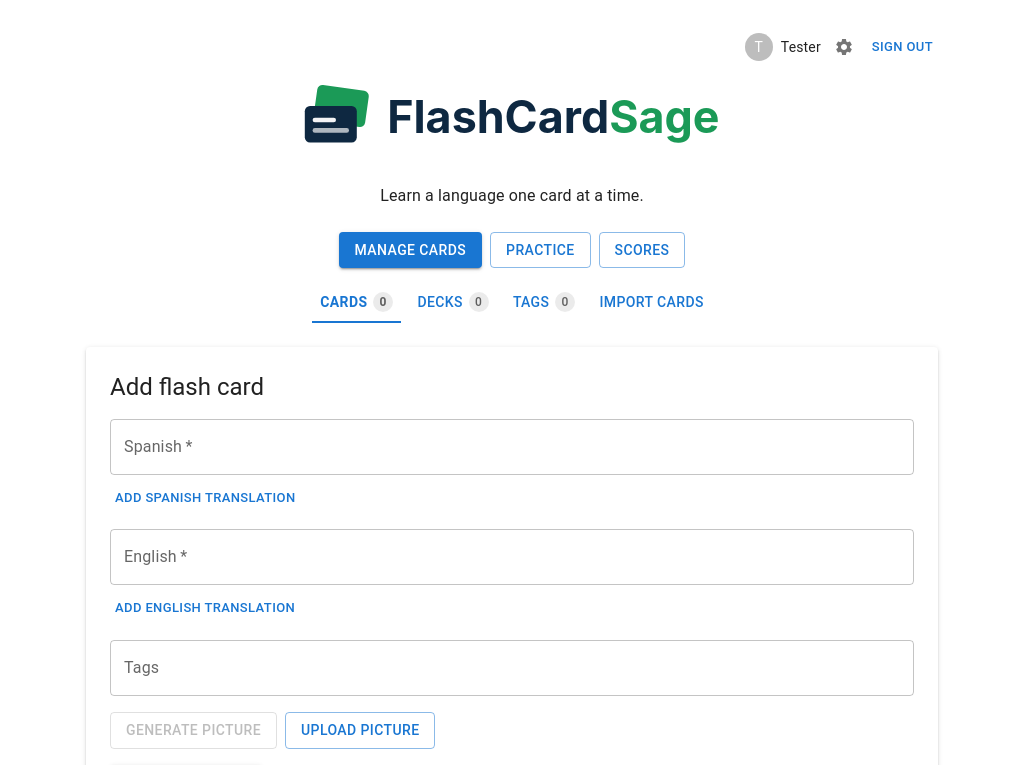
pictures › says why when the API answers 503 instead of a picture
The image size is (1024, 765).
Type "el gato" into the field labelled "Spanish" at [512, 447], box [110,419,914,475]
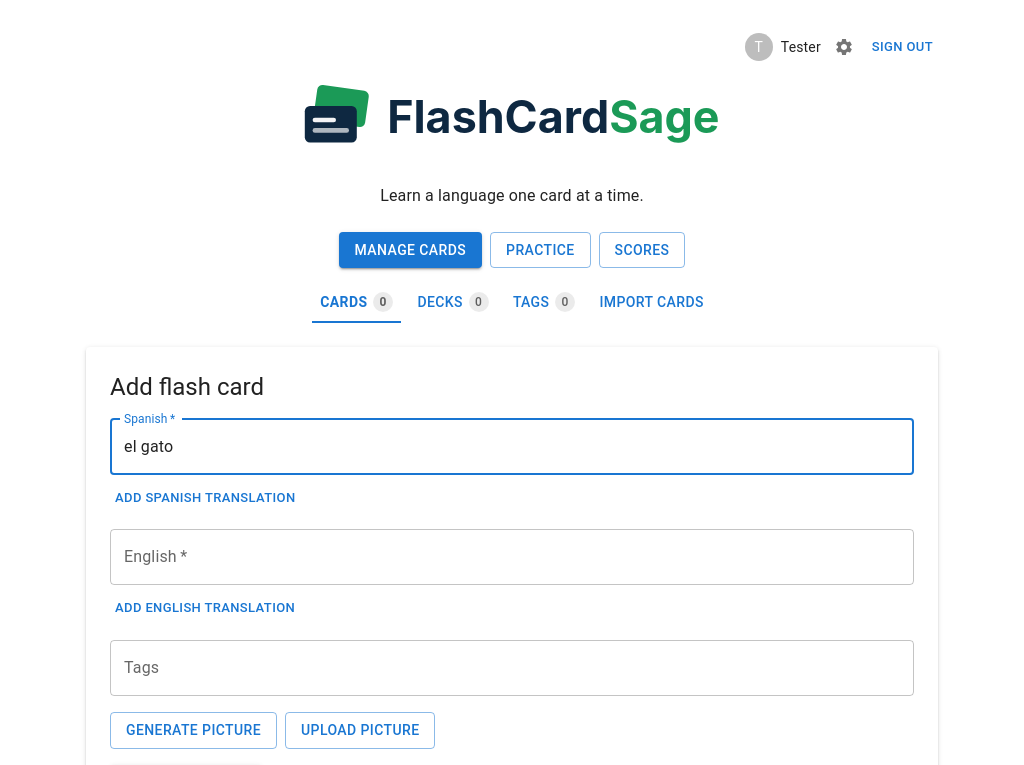
Click the button "Generate picture" at [194, 730], box [110,712,277,749]
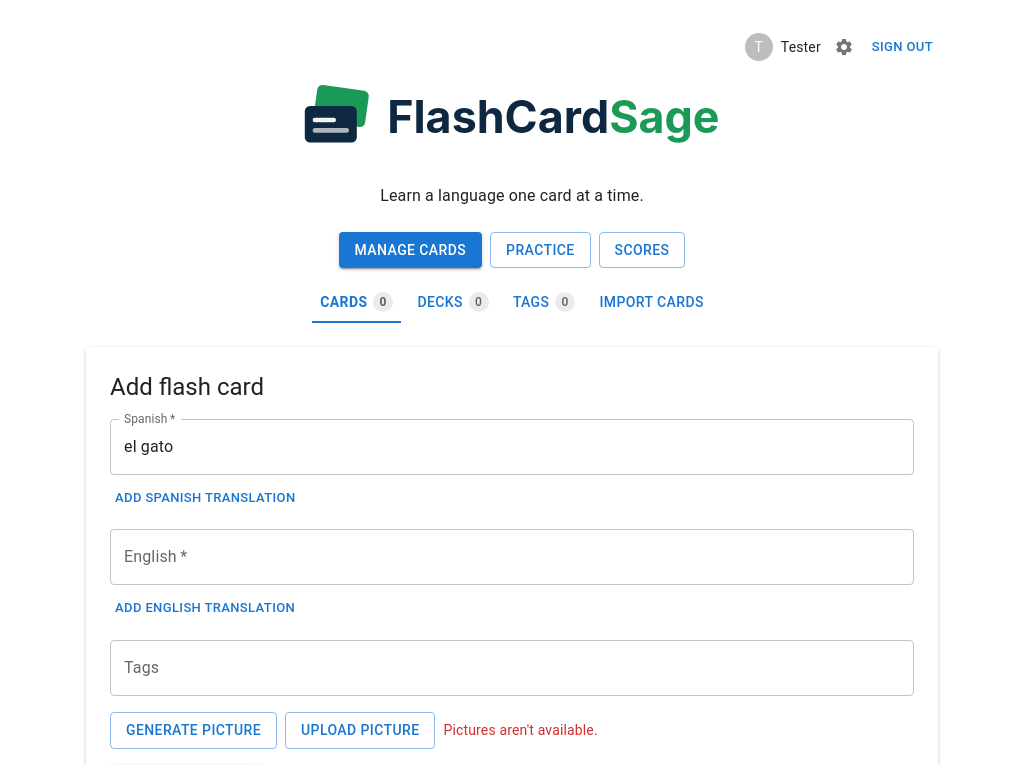
Check: the text "Pictures aren't available." is shown, box [444,720,598,740]
